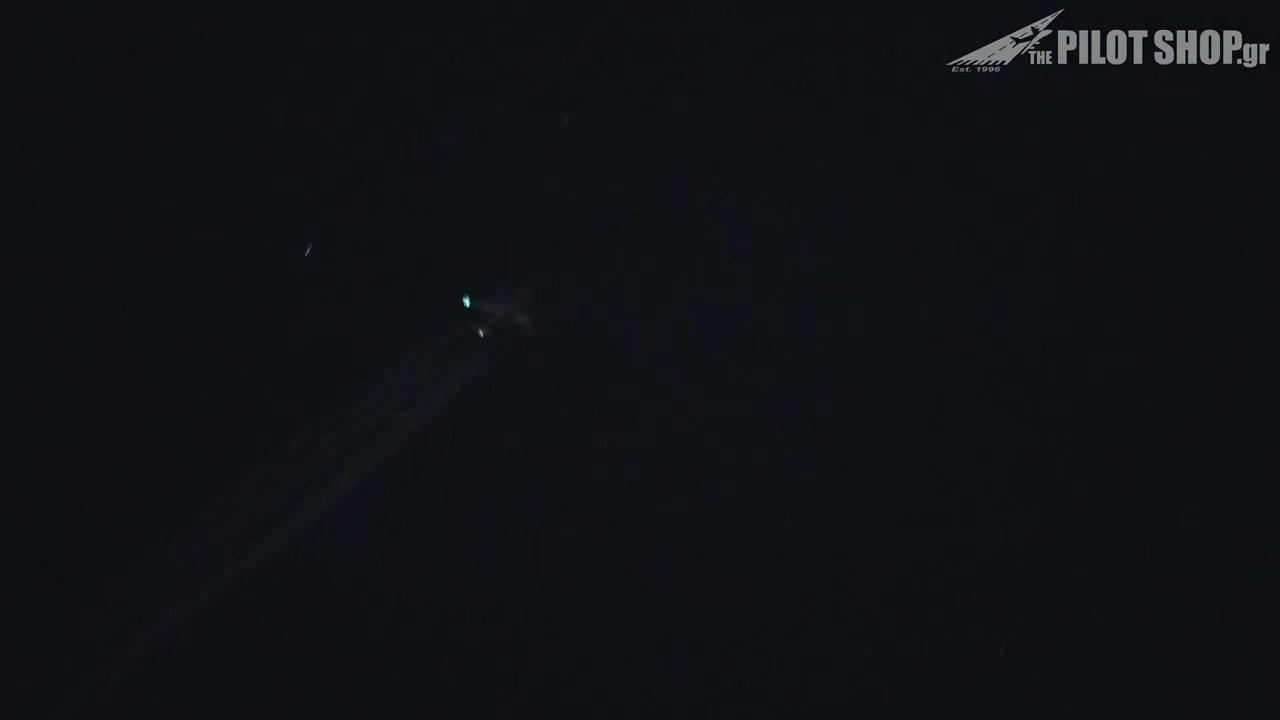Plane: (354, 270, 632, 373)
